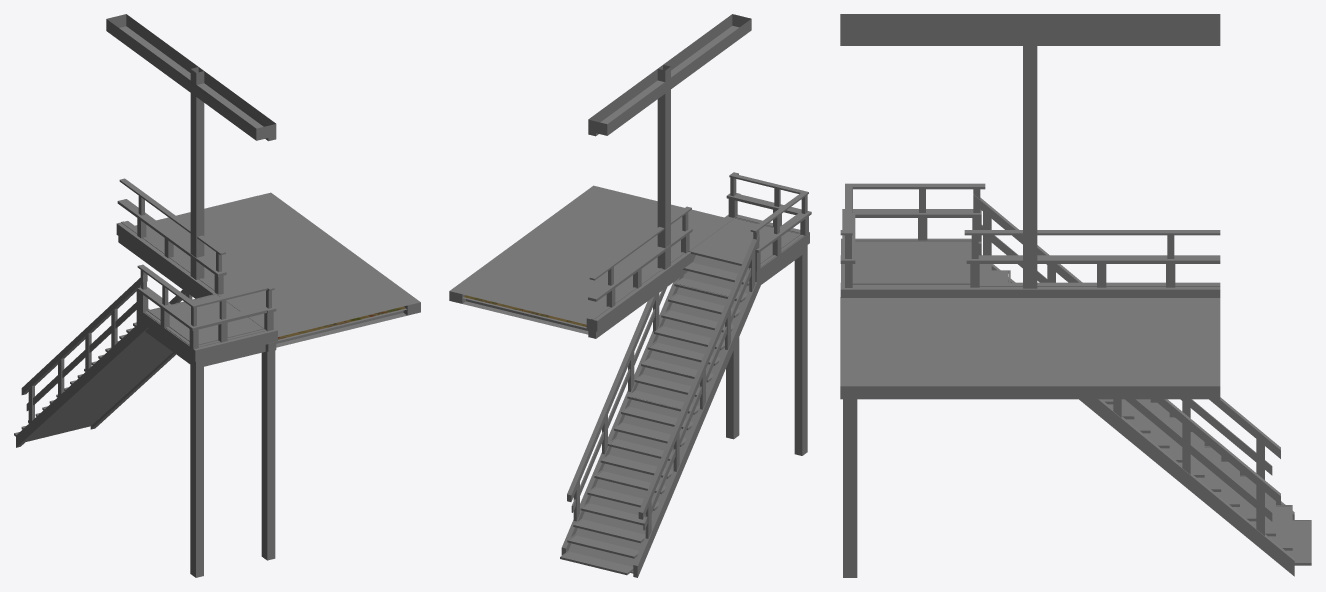
File: Attic_Stairs.fbx
The picture shows the model from 3 angles, left to right: view 1: azimuth 30°, elevation 25°; view 2: azimuth 150°, elevation 25°; view 3: azimuth 270°, elevation 25°; orthographic projection. The views are drawn at different scales.
Visible parts, largest first — view 1: Attic_Stairs; view 2: Attic_Stairs; view 3: Attic_Stairs.
Part boxes in pixels (x1,y1,x2,y2): Attic_Stairs: (14, 14, 420, 577); Attic_Stairs: (449, 14, 811, 577); Attic_Stairs: (840, 14, 1311, 577).
Bounding box in the file's own units: 438 × 802 × 620.
